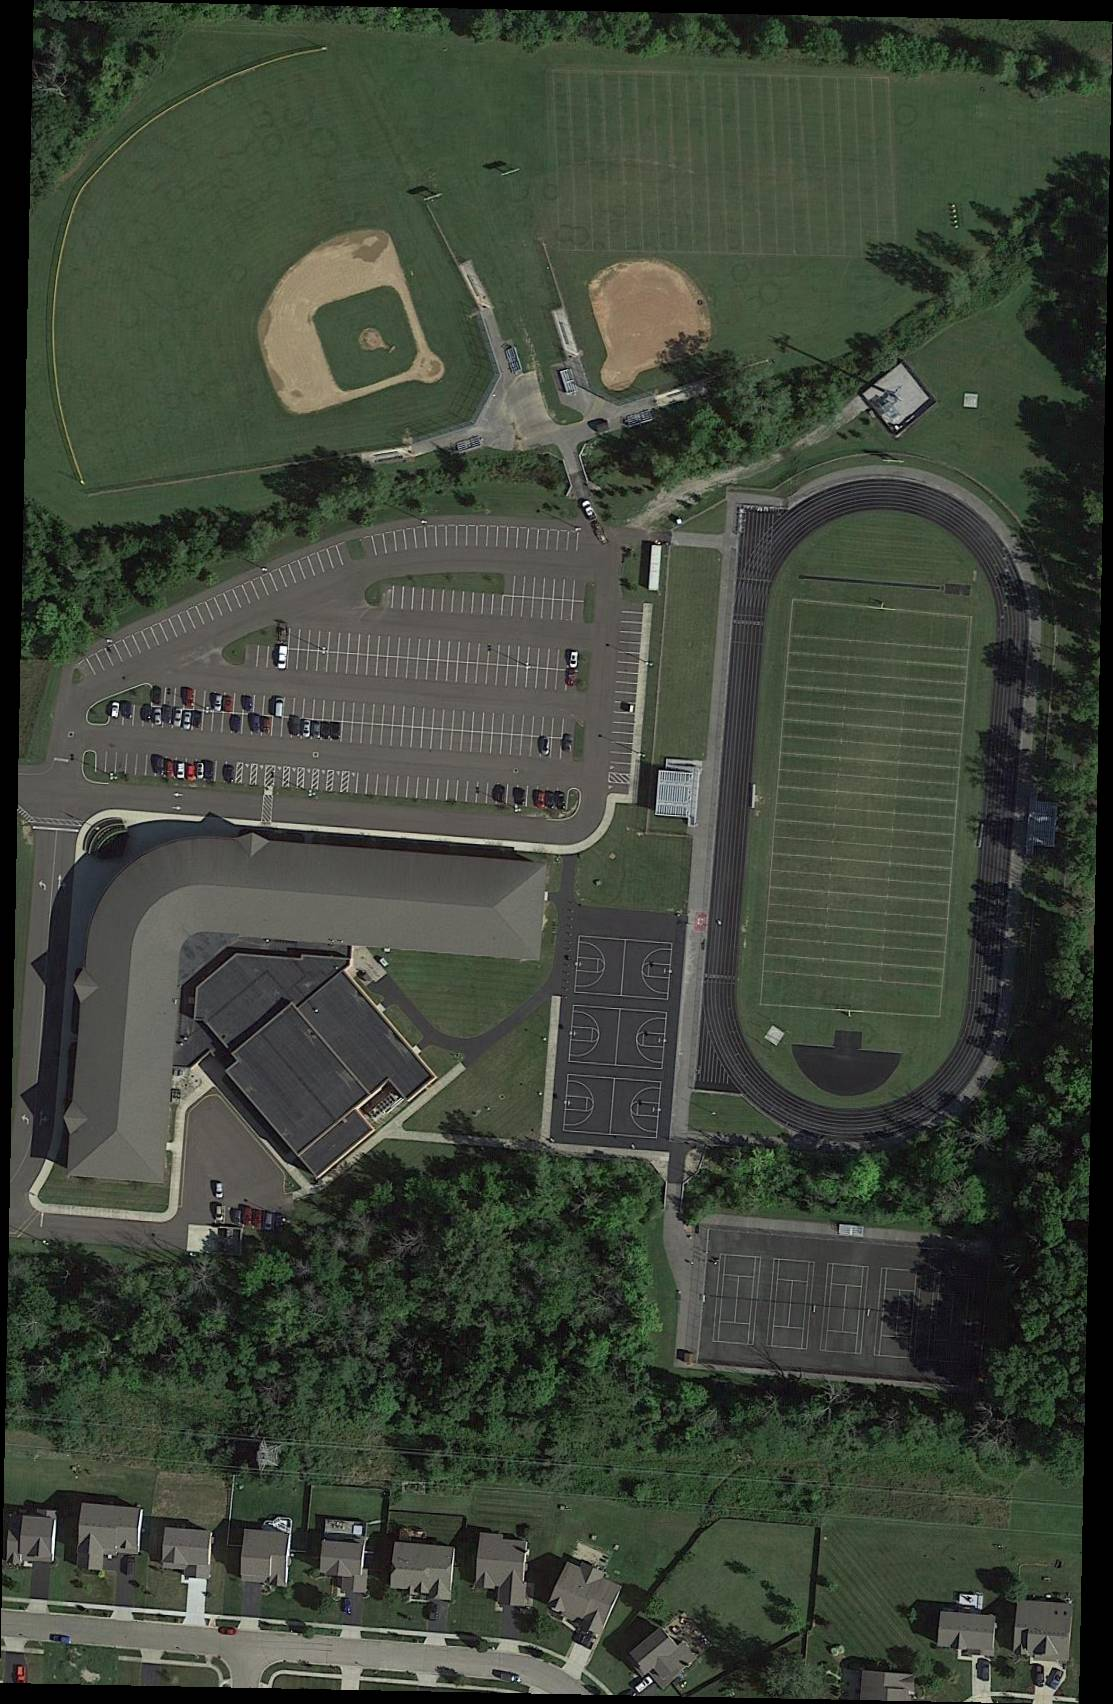baseball diamond: (238, 222, 432, 421), (583, 242, 720, 376)
basketball court: (569, 1004, 666, 1069), (573, 936, 671, 1000), (565, 1074, 660, 1136)
ground track field: (686, 469, 1041, 1150)
small vehicle: (581, 501, 599, 523), (288, 714, 303, 736), (277, 645, 288, 669), (273, 697, 286, 719), (154, 756, 166, 777), (204, 758, 215, 780), (540, 736, 552, 758), (142, 703, 154, 722), (561, 733, 574, 751), (568, 650, 579, 669), (535, 789, 547, 809), (224, 763, 235, 782), (184, 686, 195, 705), (301, 717, 311, 738), (212, 693, 224, 712), (109, 702, 120, 720), (516, 787, 527, 806), (494, 785, 506, 804), (251, 714, 262, 733), (166, 759, 176, 779), (183, 710, 193, 730), (173, 708, 183, 728), (163, 704, 173, 724), (320, 720, 330, 740), (332, 722, 342, 740), (311, 720, 320, 739), (262, 717, 272, 735), (231, 715, 242, 732), (186, 764, 196, 781), (153, 709, 163, 727), (196, 761, 205, 780), (176, 761, 185, 780), (122, 702, 132, 718), (556, 792, 566, 809), (243, 694, 253, 710), (224, 696, 234, 712), (547, 791, 555, 809)
soccer ball field: (761, 604, 973, 1016), (555, 73, 898, 258)
tennis court: (820, 1264, 871, 1356), (873, 1268, 923, 1359), (713, 1254, 761, 1344), (928, 1271, 974, 1362), (769, 1258, 815, 1348)
